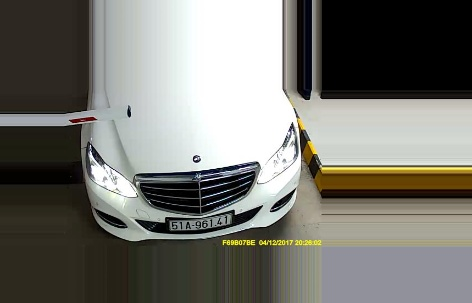plate: (168, 216, 232, 231)
